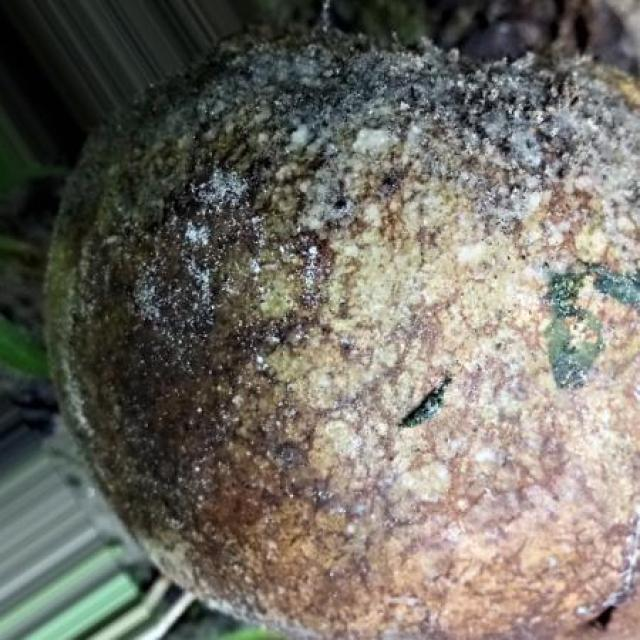Phytopthora: (48, 35, 640, 640)
